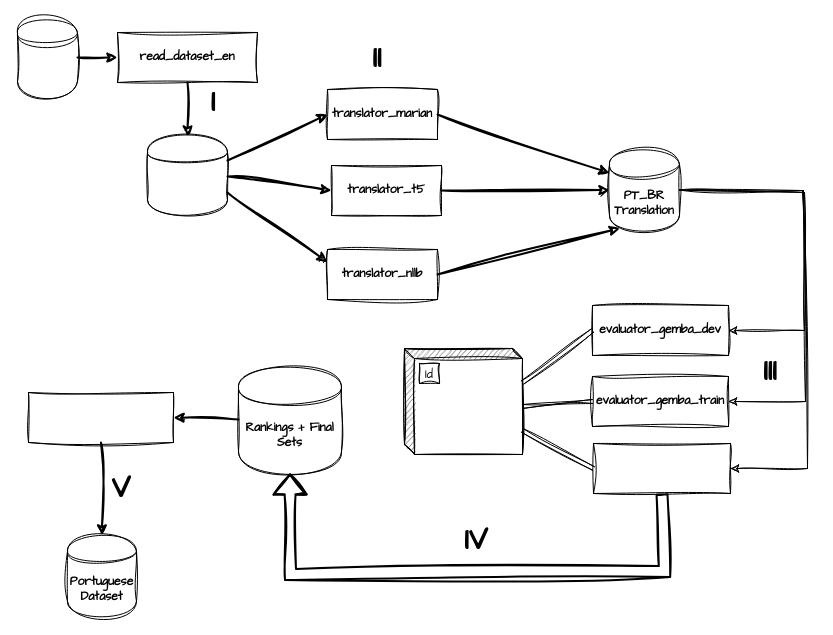
The diagram is 833 pixels wide and 635 high, and some of its shapes have lost their labels. Each missing label, with the box of its shape:
English Dataset: (16, 16, 78, 98)
evaluator_gemba_tst: (592, 442, 730, 494)
GPT3.5-Turbo: (404, 348, 522, 454)
publish_dataset_pt: (28, 392, 174, 442)
Temporary Format (CSV): (146, 136, 228, 216)
